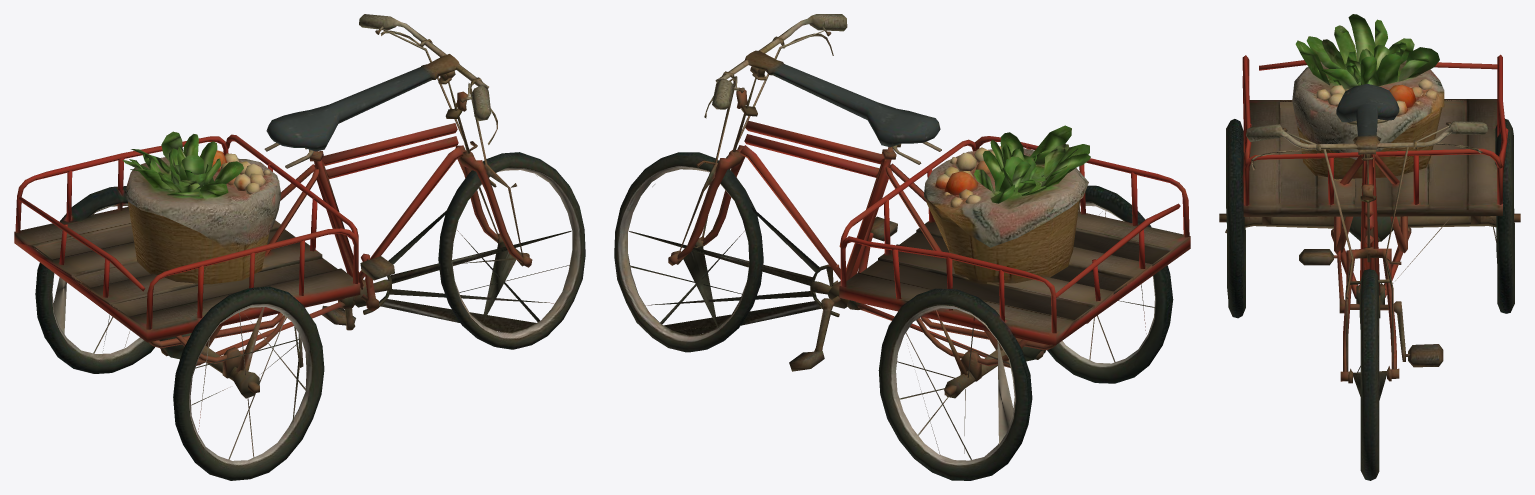
The model's file is tricycle.glb.
3 views of the same model, side by side, from view 1: azimuth 30°, elevation 25°; view 2: azimuth 150°, elevation 25°; view 3: azimuth 270°, elevation 25° (orthographic). The views are drawn at different scales.
Parts seen in each view (by area): view 1: tripo_node_559b0330-4b98-4990-8af1-66a7c2923d19; view 2: tripo_node_559b0330-4b98-4990-8af1-66a7c2923d19; view 3: tripo_node_559b0330-4b98-4990-8af1-66a7c2923d19.
Part boxes in pixels (x1,y1,x2,y2): tripo_node_559b0330-4b98-4990-8af1-66a7c2923d19: [14, 14, 585, 480]; tripo_node_559b0330-4b98-4990-8af1-66a7c2923d19: [614, 14, 1190, 480]; tripo_node_559b0330-4b98-4990-8af1-66a7c2923d19: [1219, 14, 1520, 480].
Bounding box in the file's own units: 0.998 × 0.6074 × 0.5332.
Materials: 1 (1 with a texture image).
